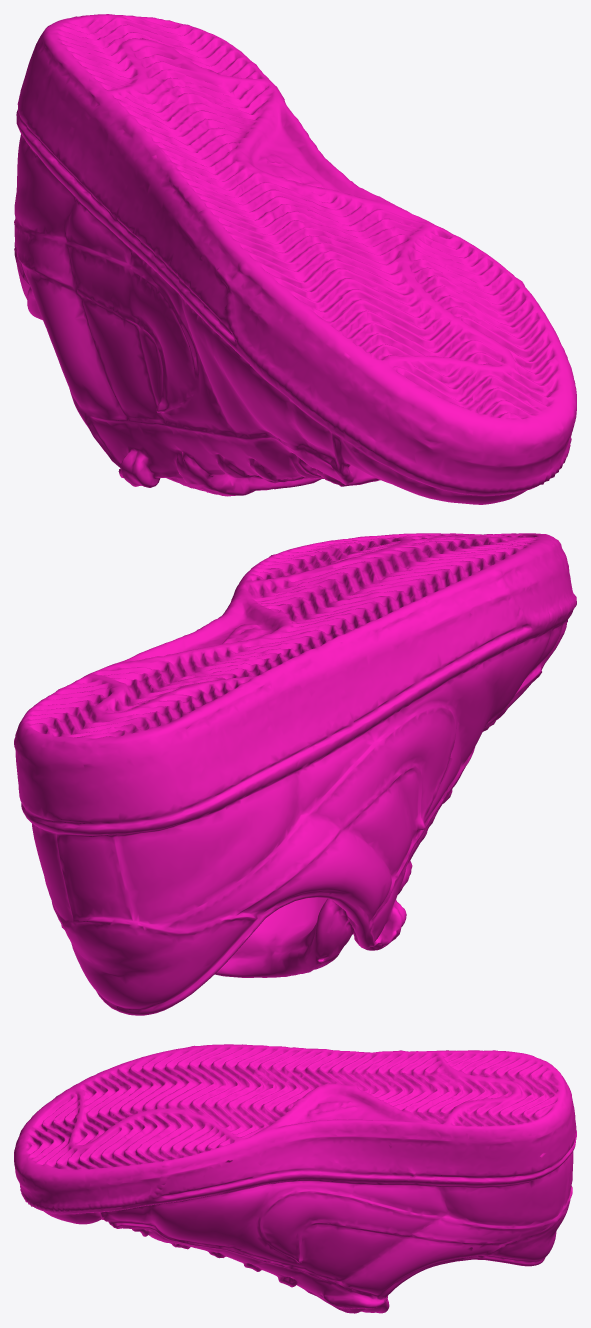
File: shoe2_5.dae
3 views of the same model, one above another, from view 1: azimuth 30°, elevation 25°; view 2: azimuth 150°, elevation 25°; view 3: azimuth 270°, elevation 25° (orthographic). The views are drawn at different scales.
Visible parts, largest first — view 1: shoe2_019; view 2: shoe2_019; view 3: shoe2_019.
Boxes of the visible parts, left/top/right/bottom form: shoe2_019: left=14, top=14, right=576, bottom=504; shoe2_019: left=14, top=533, right=576, bottom=1015; shoe2_019: left=14, top=1044, right=576, bottom=1313.
Bounding box in the file's own units: 0.135 × 0.3605 × 0.166.
